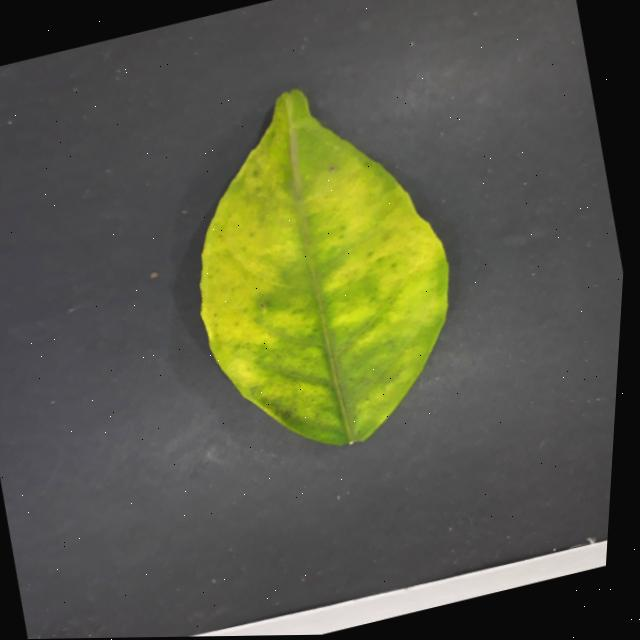greening: (200, 88, 448, 443)
